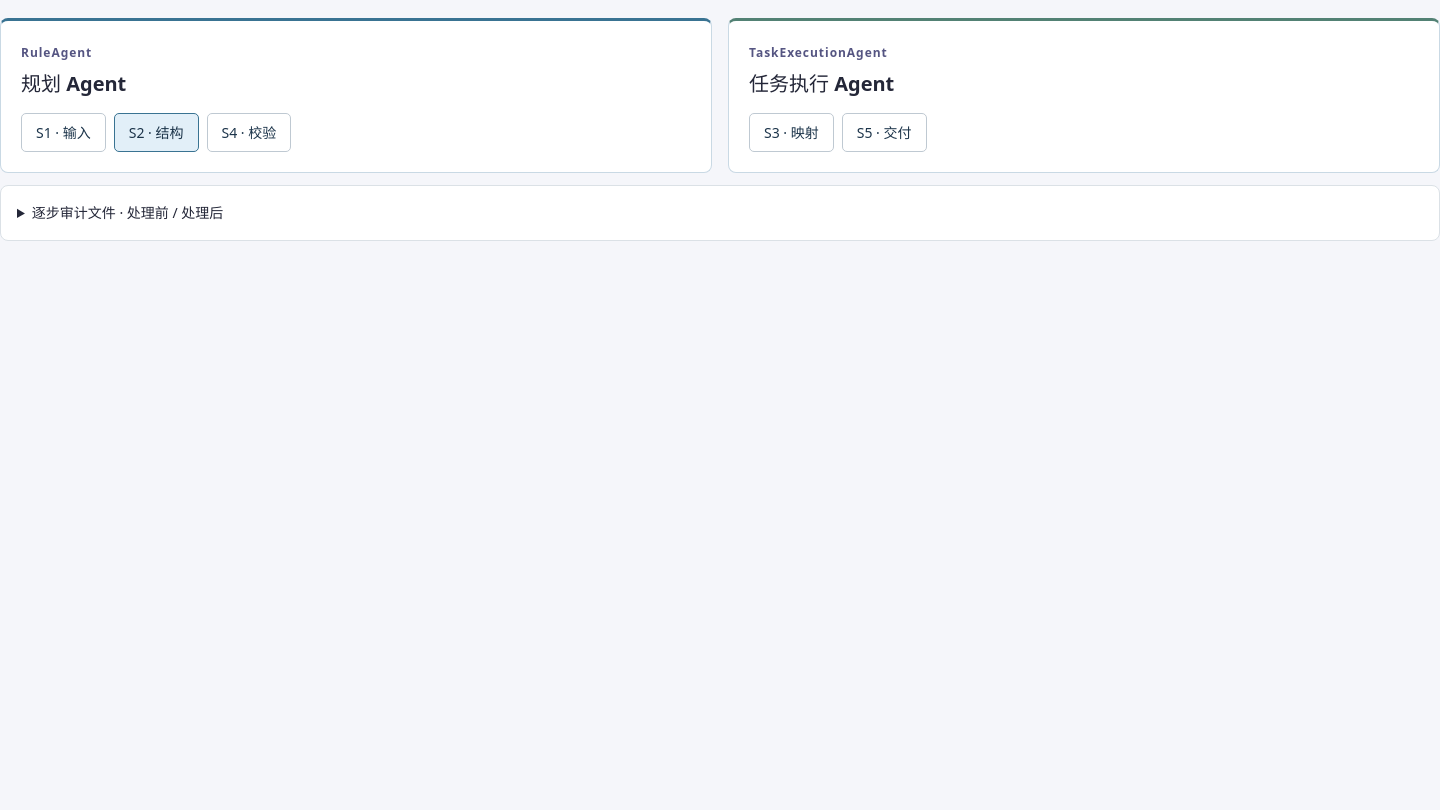
Test case: separates current templates from missing historical messages and uses the selected attempt
The image size is (1440, 810).
Expected: the heading "规划 Agent" is shown, [21,70,126,97]
Click the heading "逐步审计文件 · 处理前 / 处理后" at (128, 213), box [32,203,223,222]
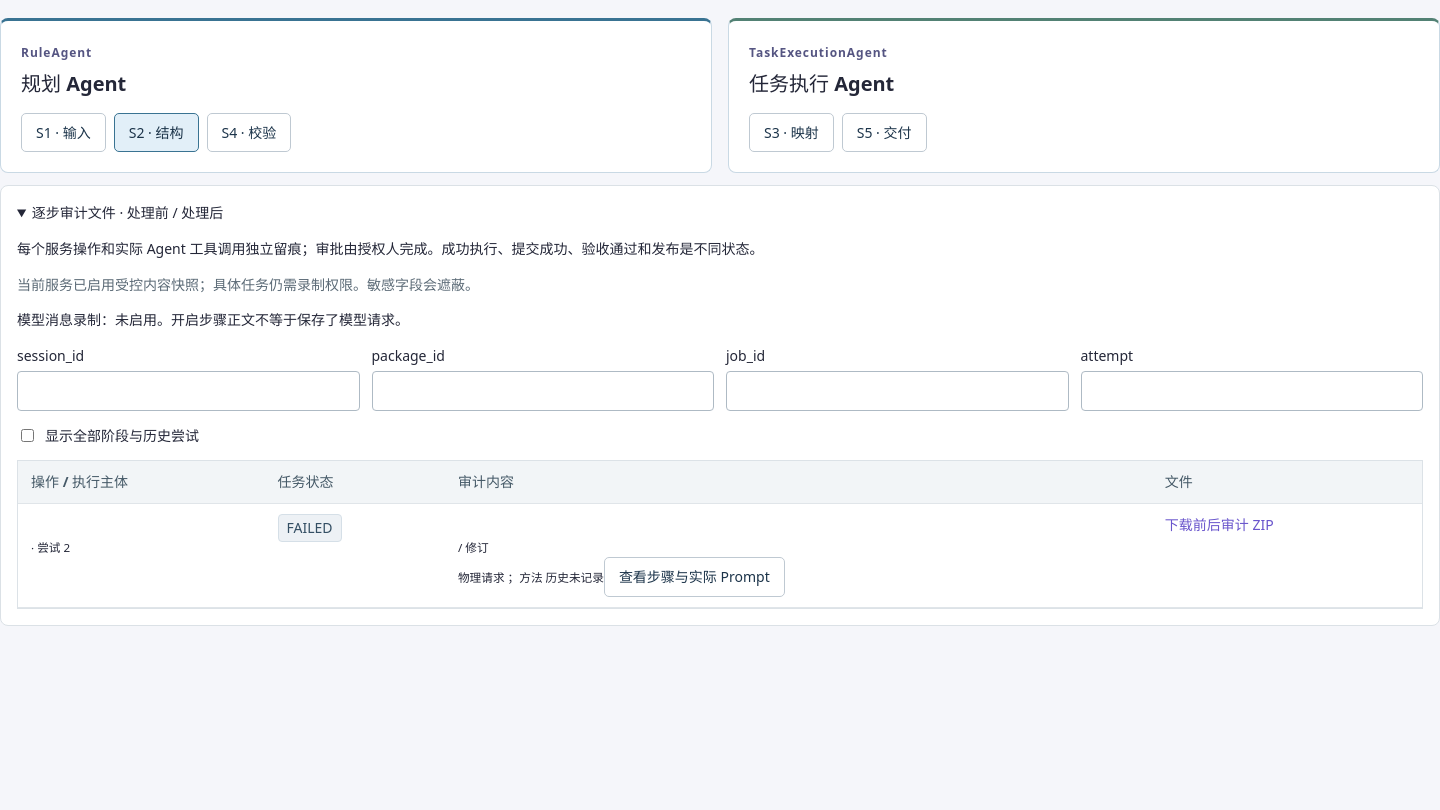
Click the button "查看步骤与实际 Prompt" at (694, 577), box [604,557,785,597]
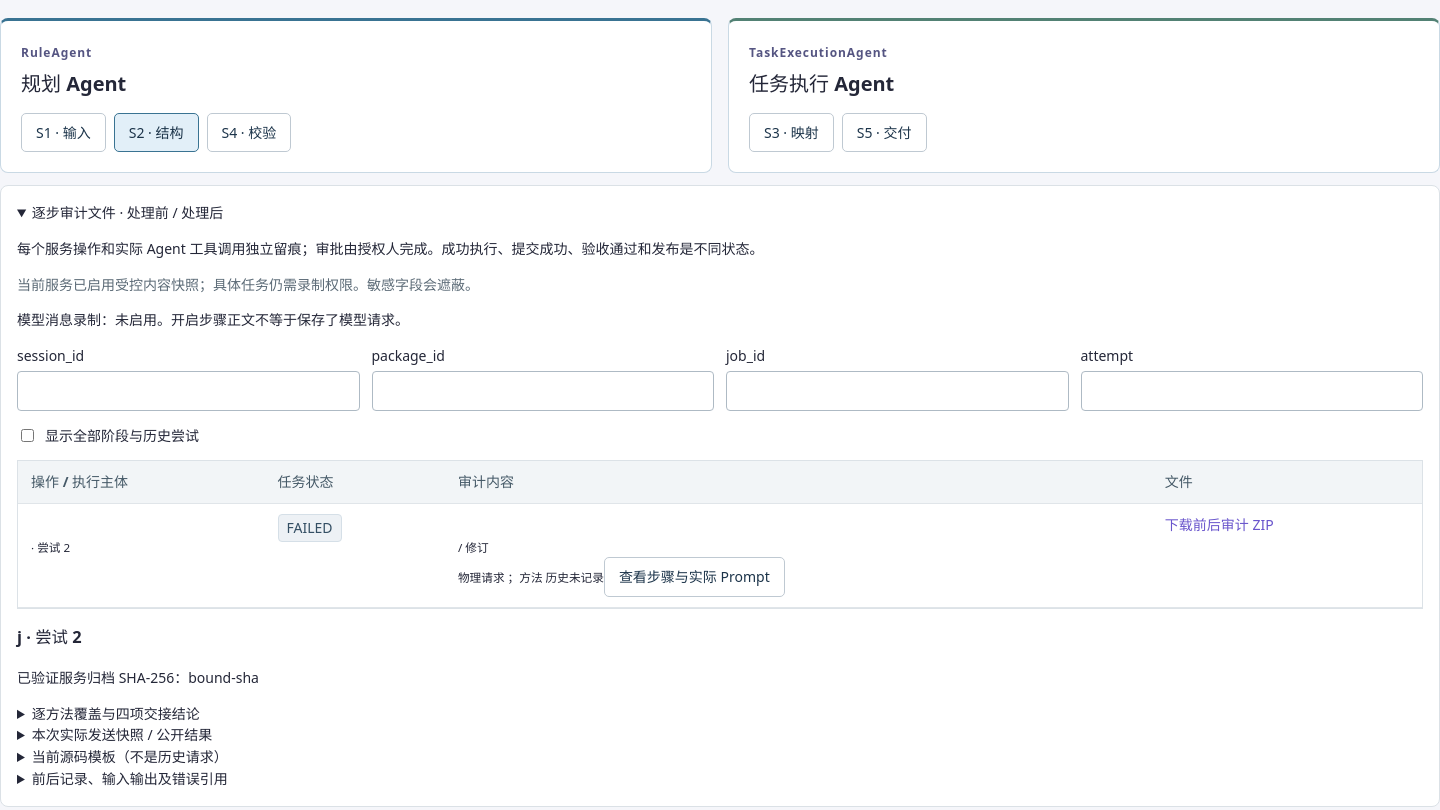
Result: the text "已验证服务归档 SHA-256：bound-sha" is shown at [17,668,259,687]
Result: the heading "当前源码模板（不是历史请求）" is shown at [32,747,228,766]
